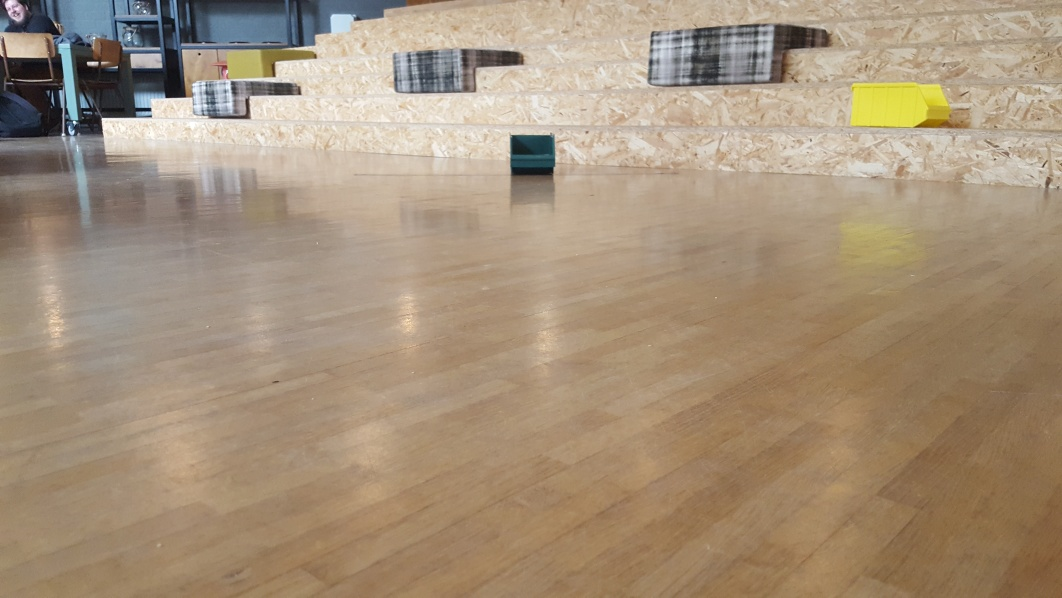tray: (843, 77, 952, 129), (505, 131, 557, 174)
